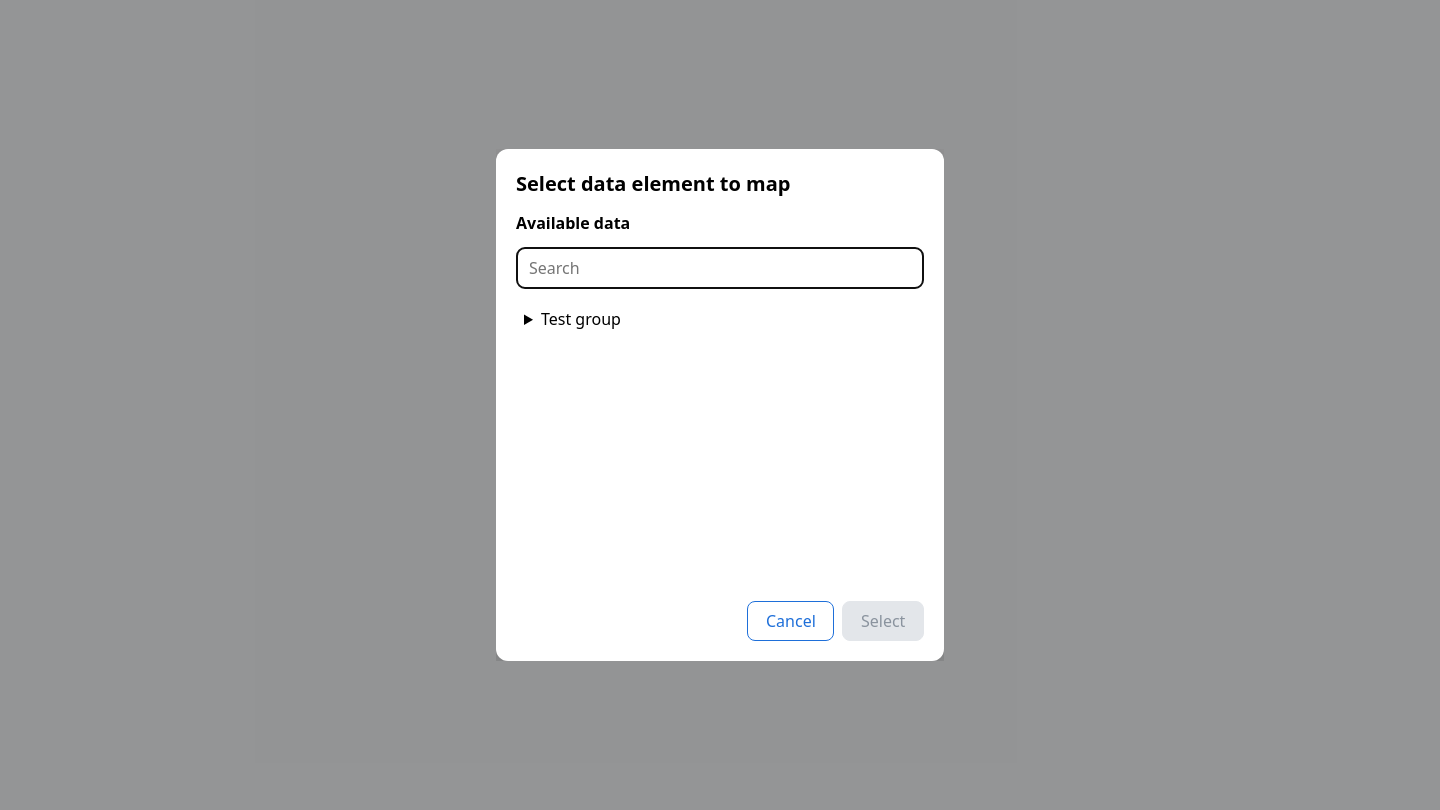
DataElementModal › shows no-match message for query matching no dataGroup or dataElement
The image size is (1440, 810).
Type "zzz" into the search field named "Search data elements" at (720, 268), box [516,247,924,289]
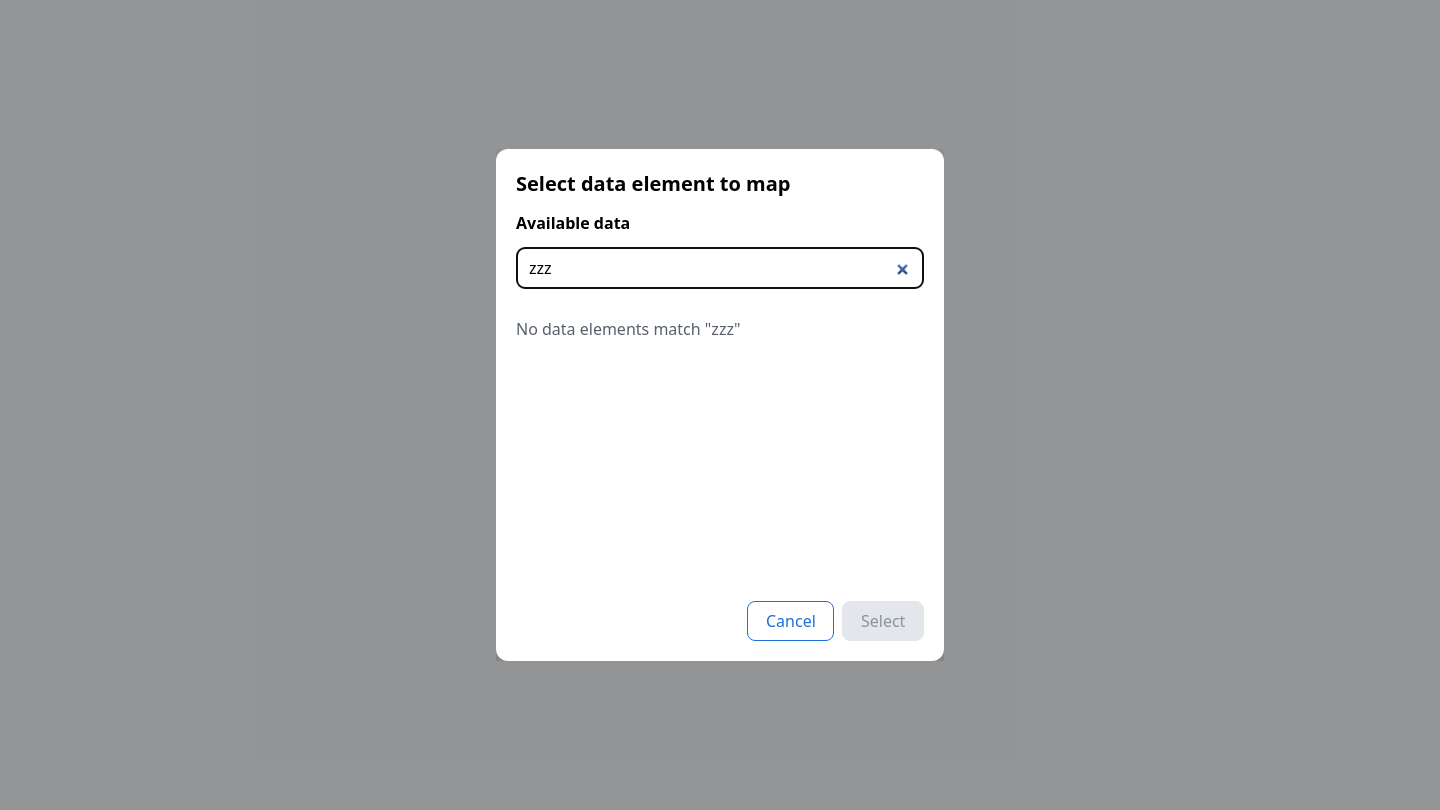
Result: the text "No data elements match \"zzz\"" is shown at [516,318,740,340]
Result: the heading "Test group" is gone
